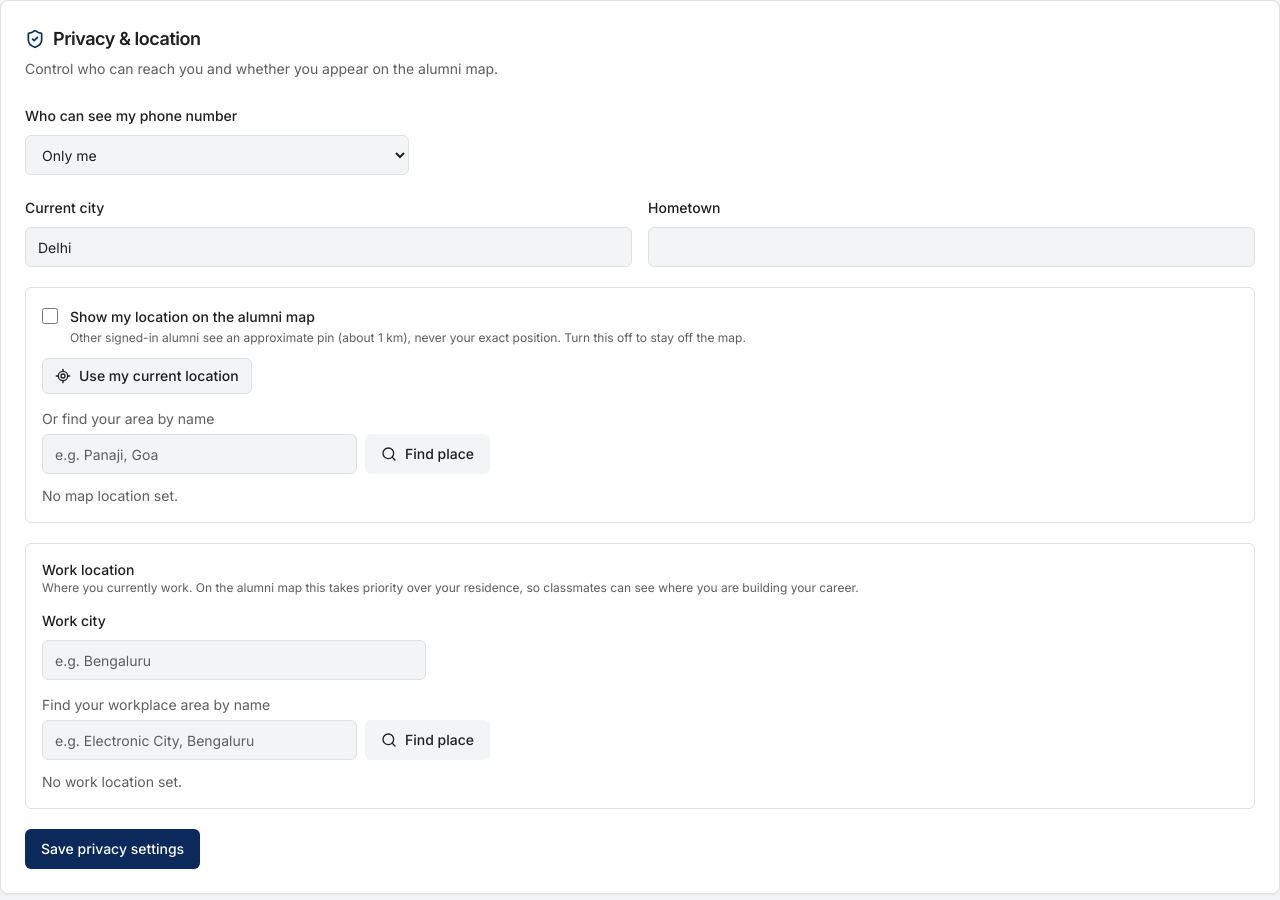
Test: <PrivacySection> › only suggests a different city when the member already typed one
The image size is (1280, 900).
Click the button "Use my current location".
click(147, 376)  # box [42,358,252,394]
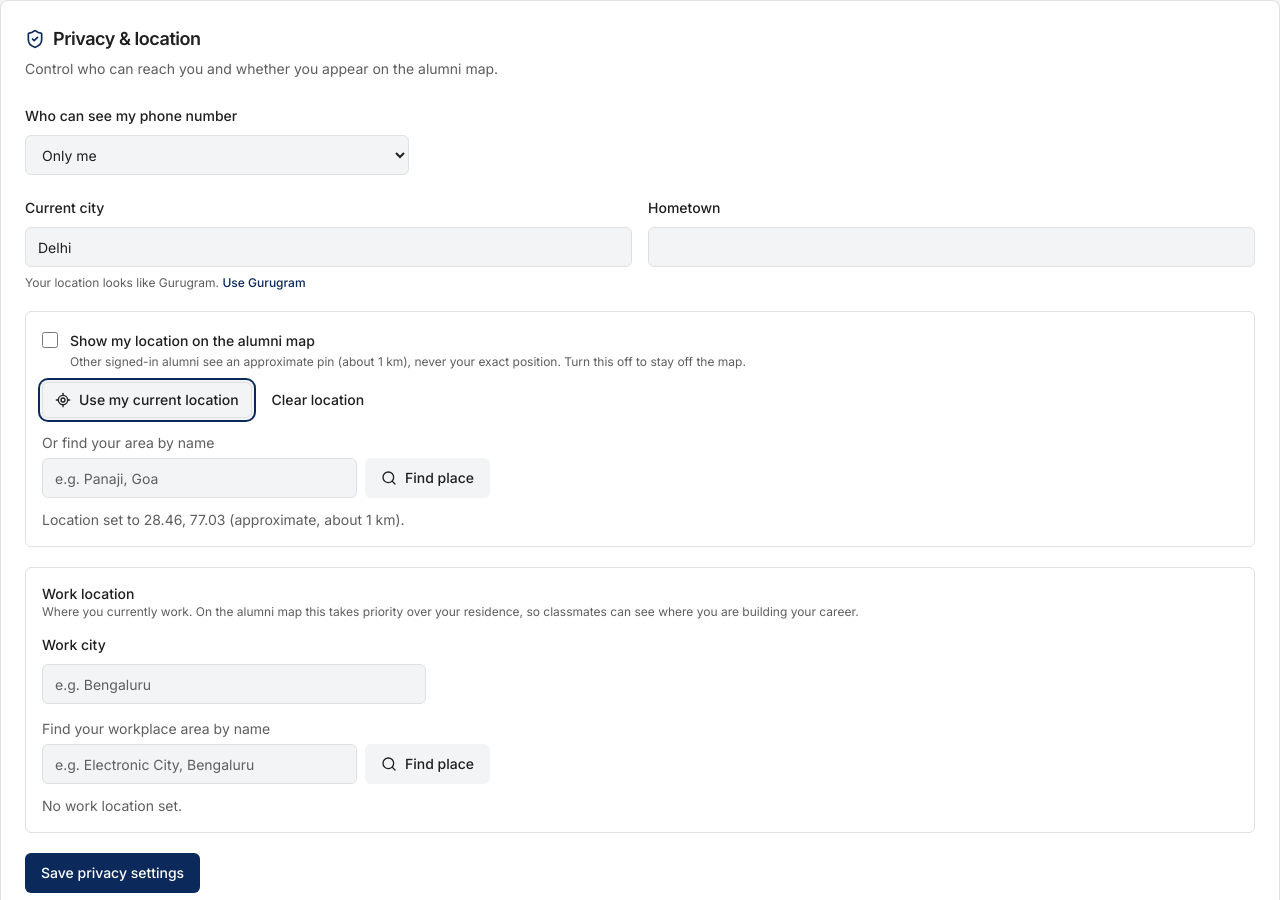
Check: the field labelled "Current city" holds "Delhi", box [25,227,632,267]
Click the button "Use Gurugram".
click(264, 283)  # box [222,275,306,291]
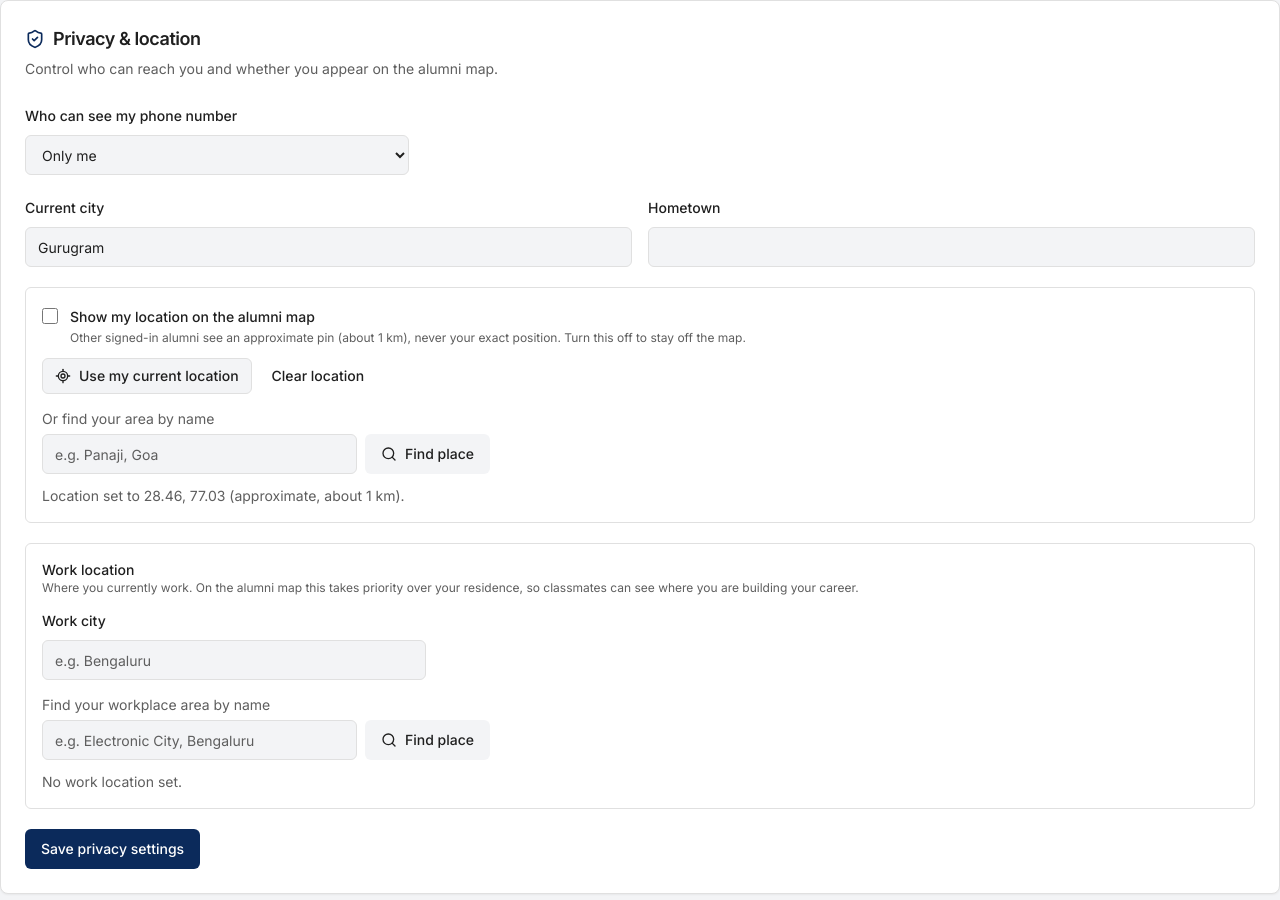
Check: the field labelled "Current city" holds "Gurugram", box [25,227,632,267]
